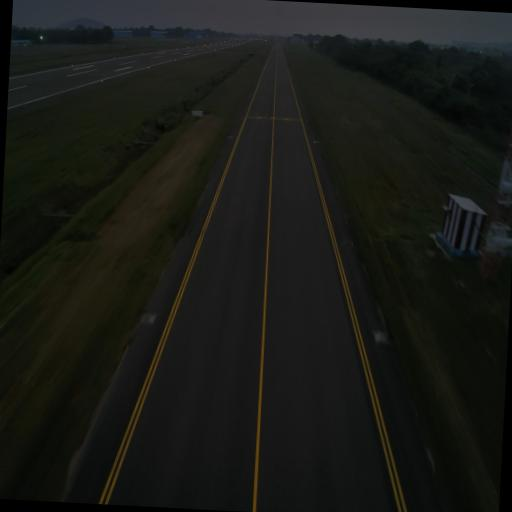on: (148, 308, 154, 320), (376, 327, 382, 338), (313, 138, 316, 143), (230, 133, 232, 138)
